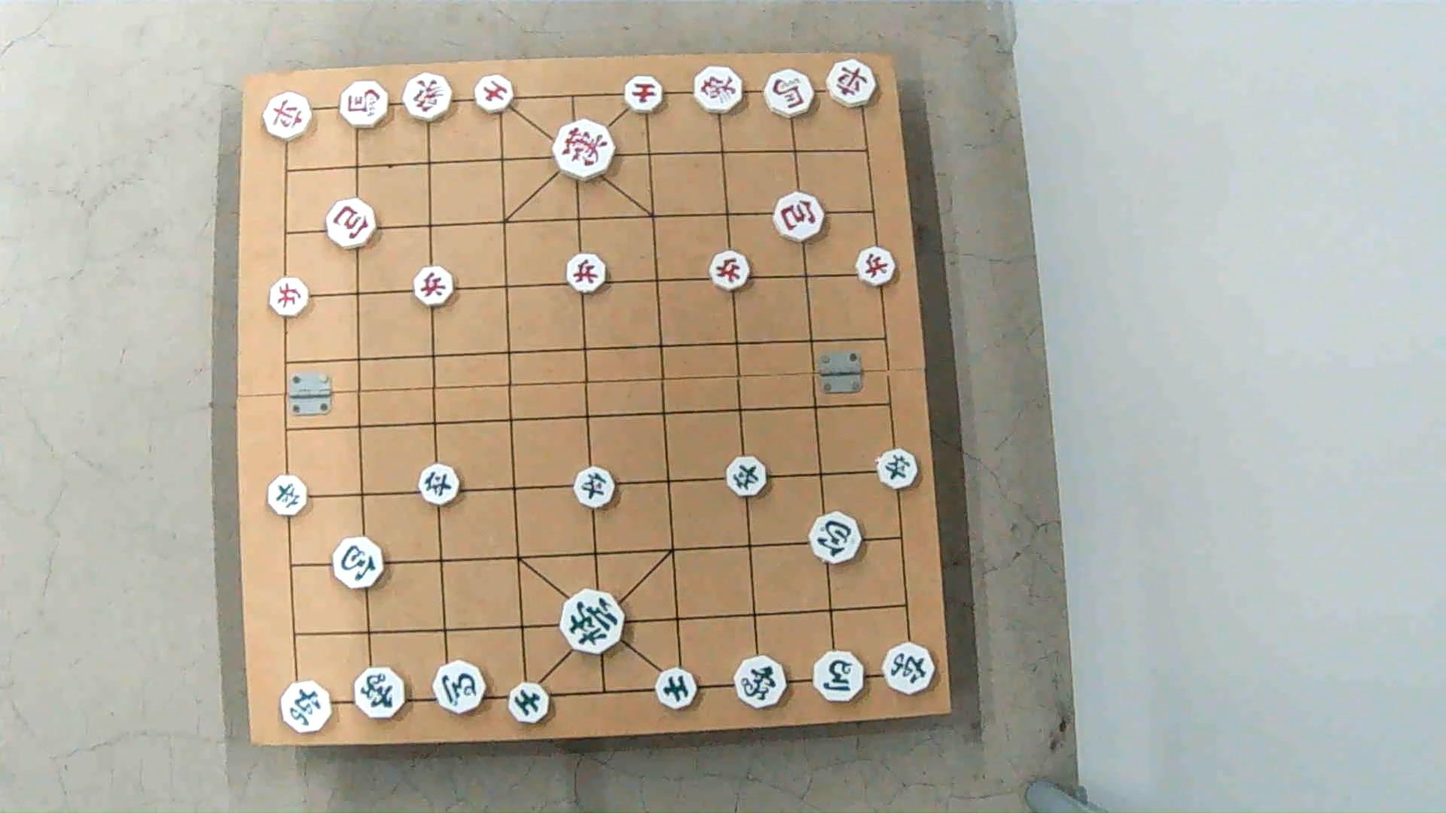cha_green: (884, 643, 936, 697), (279, 683, 332, 733)
cha_red: (826, 59, 877, 110), (262, 90, 315, 137)
jol_green: (572, 468, 615, 508), (416, 467, 459, 507), (725, 456, 768, 495), (265, 476, 305, 515), (872, 451, 914, 486)
jol_red: (565, 254, 606, 292), (711, 253, 752, 291), (410, 267, 451, 305), (856, 248, 898, 285), (268, 278, 308, 314)
ma_green: (435, 660, 485, 712), (812, 652, 864, 701)
ma_red: (340, 80, 389, 131), (765, 71, 817, 117)
po_green: (333, 537, 385, 589), (809, 515, 862, 564)
po_red: (328, 199, 379, 247), (774, 195, 825, 242)
sa_green: (654, 670, 696, 708), (510, 682, 548, 723)
sa_red: (474, 77, 515, 113), (624, 78, 665, 114)
sang_green: (352, 668, 407, 717), (732, 658, 785, 708)
sang_red: (401, 73, 452, 118), (694, 68, 745, 113)
wang_green: (563, 594, 629, 653)
wang_red: (553, 120, 615, 178)
